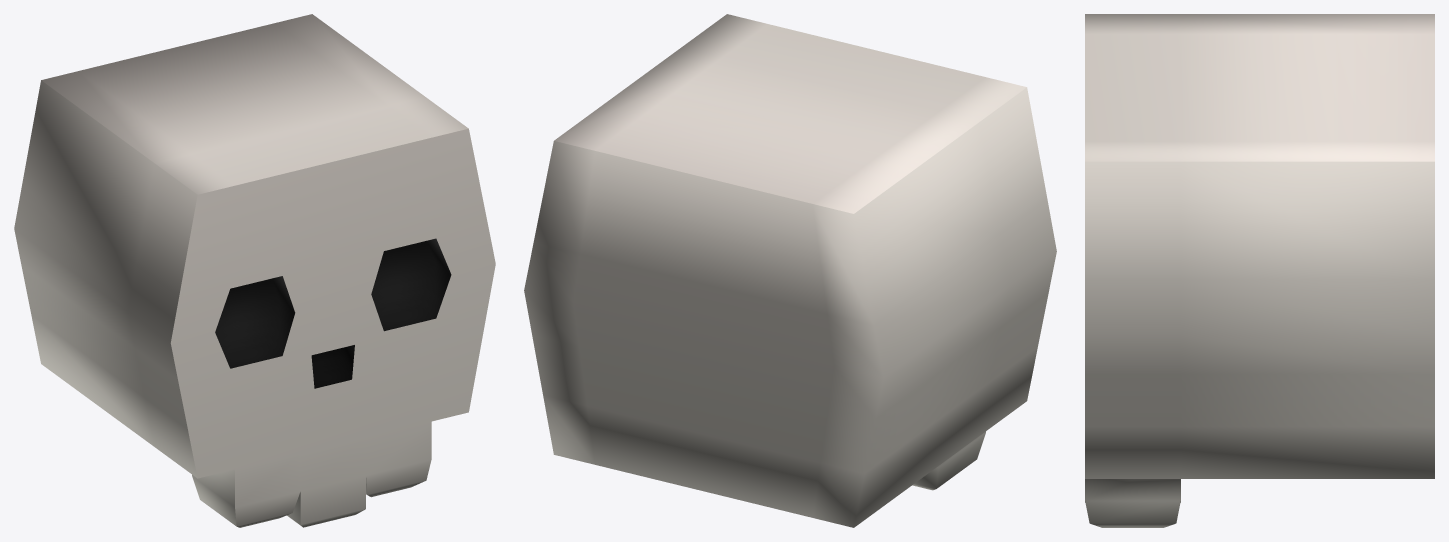
Rendered from skull.fbx.
3 views of the same model, side by side, from view 1: azimuth 30°, elevation 25°; view 2: azimuth 150°, elevation 25°; view 3: azimuth 270°, elevation 25° (orthographic). The views are drawn at different scales.
Parts seen in each view (by area): view 1: Cube.037; view 2: Cube.037; view 3: Cube.037.
Part boxes in pixels (box(x1,y1,x2,y2)): Cube.037: box(14, 14, 495, 527); Cube.037: box(524, 14, 1056, 527); Cube.037: box(1085, 14, 1434, 527).
Size of the model in its own units: 0.5517 by 0.5877 by 0.4602.
